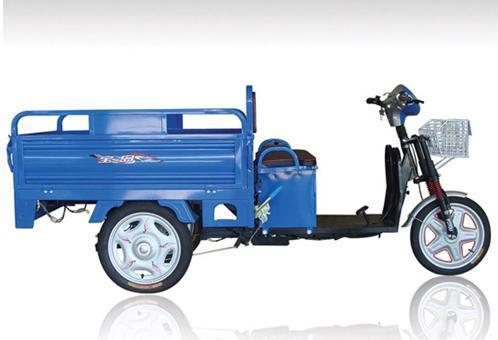tricycle: (10, 59, 489, 292)
